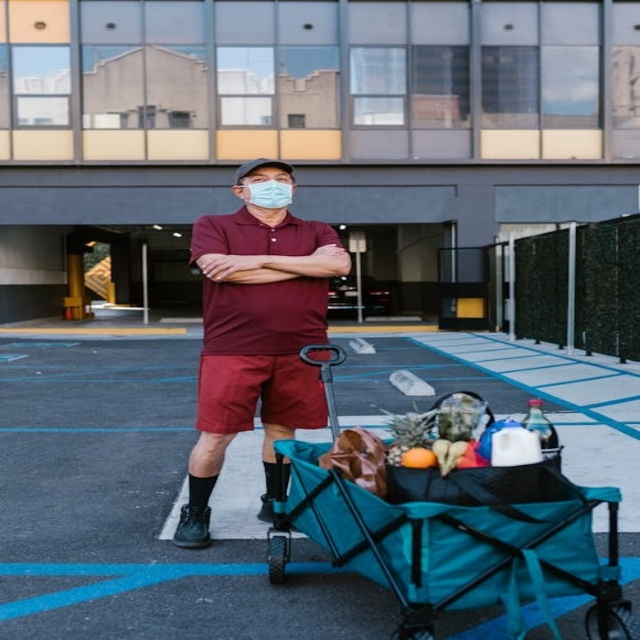Mascara: (241, 180, 294, 209)
Sin_gafas: (246, 172, 292, 184)
Sin_guantes: (197, 253, 250, 283), (314, 243, 349, 258)
